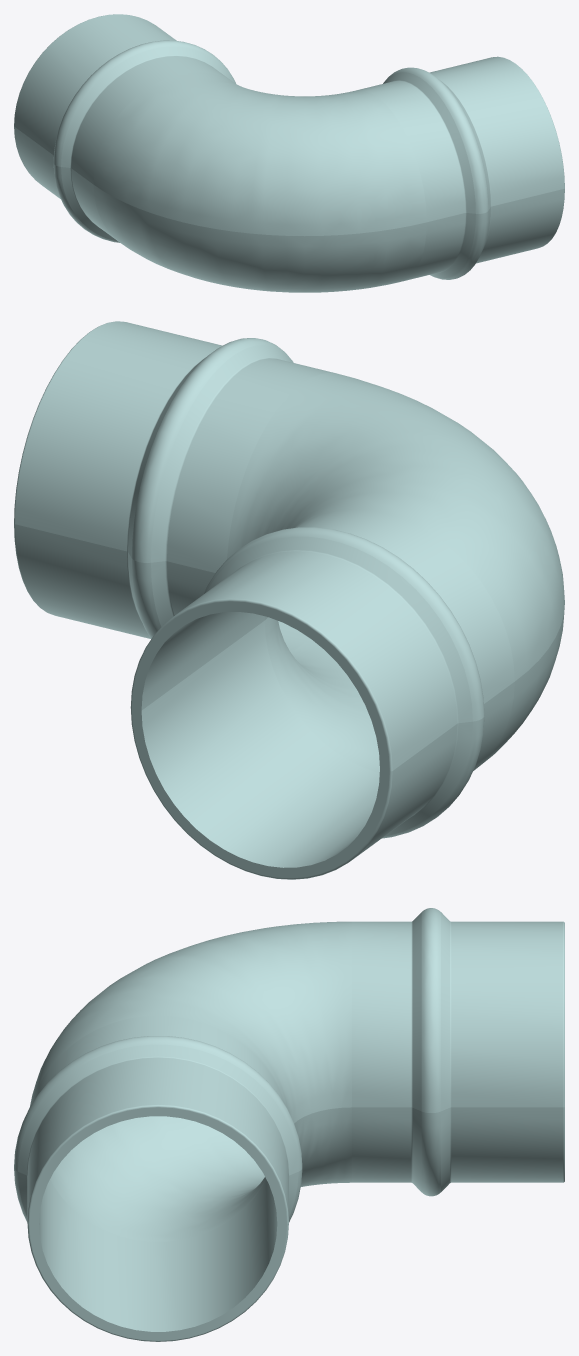
3 views of the same model, one above another, from view 1: azimuth 30°, elevation 25°; view 2: azimuth 150°, elevation 25°; view 3: azimuth 270°, elevation 25° (orthographic). The views are drawn at different scales.
Bounding box in the file's own units: 142 × 74.33 × 142.
